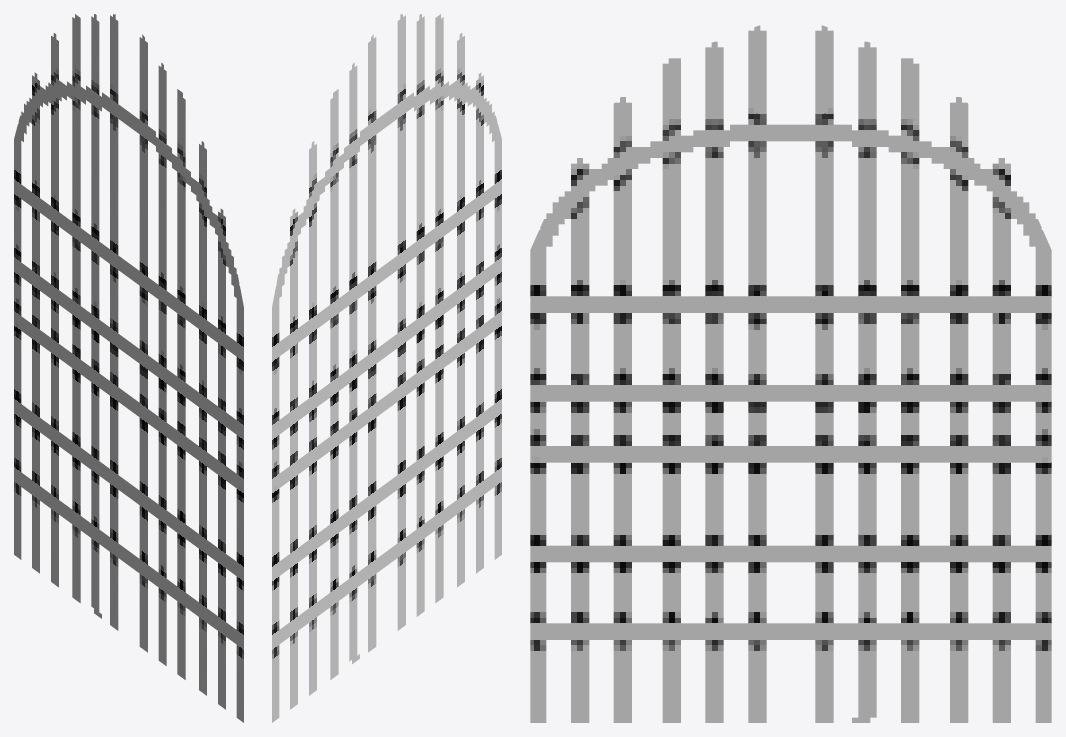
File: plane_gate.glb
3 views of the same model, side by side, from view 1: azimuth 30°, elevation 25°; view 2: azimuth 150°, elevation 25°; view 3: azimuth 270°, elevation 25° (orthographic). The views are drawn at different scales.
Visible parts, largest first — view 1: Plane; view 2: Plane; view 3: Plane.
Part boxes in pixels (x1,y1,x2,y2): Plane: [14, 14, 243, 722]; Plane: [272, 14, 501, 722]; Plane: [530, 25, 1051, 722].
Bounding box in the file's own units: 7.55e-08 × 3 × 2.
1 material, 1 textured.
